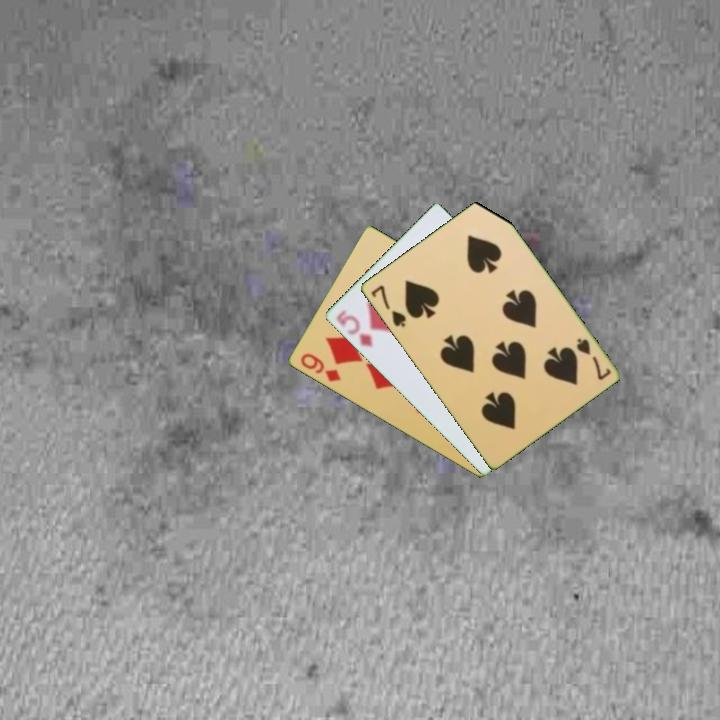5d: (332, 306, 375, 350)
7s: (367, 281, 409, 330), (572, 334, 614, 383)
9d: (297, 350, 344, 385)
